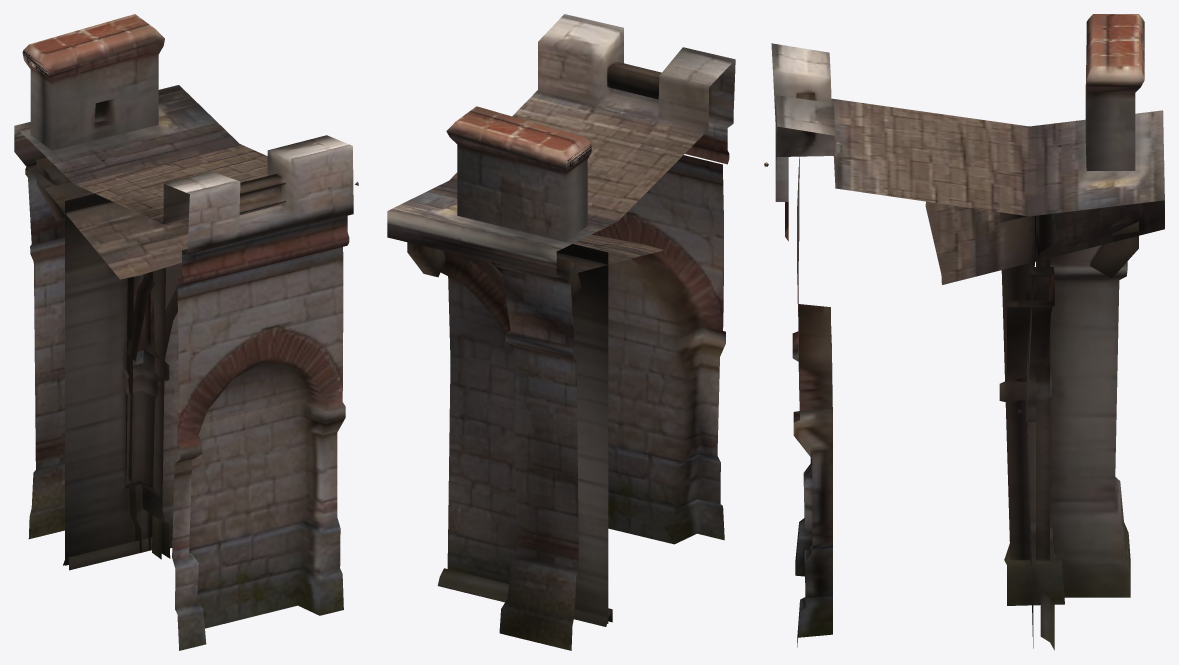
The model's file is WallRunLeft_10.fbx.
3 renders of one model, left to right at view 1: azimuth 30°, elevation 25°; view 2: azimuth 150°, elevation 25°; view 3: azimuth 270°, elevation 25°, orthographic. The views are drawn at different scales.
Parts seen in each view (by area): view 1: Imported wall section.038; view 2: Imported wall section.038; view 3: Imported wall section.038.
Part boxes in pixels (x1,y1,x2,y2): Imported wall section.038: [14, 14, 358, 650]; Imported wall section.038: [387, 14, 735, 650]; Imported wall section.038: [764, 14, 1164, 650].
Size of the model in its own units: 200 by 574 by 376.
1 material, 1 textured.
